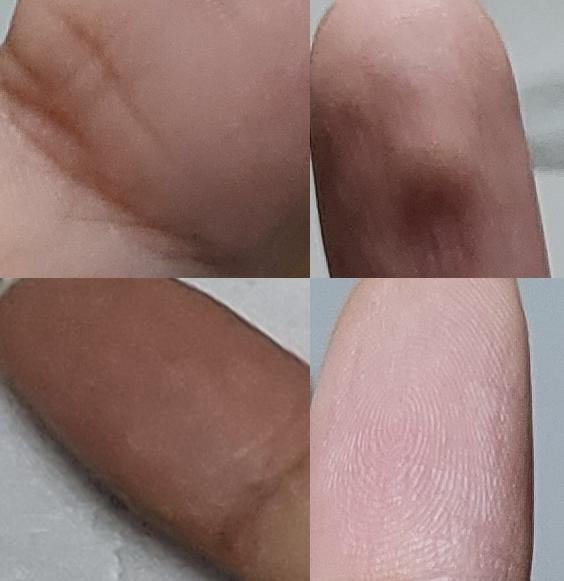Fingerprints: (0, 278, 310, 565), (310, 278, 534, 581), (310, 0, 552, 278)
